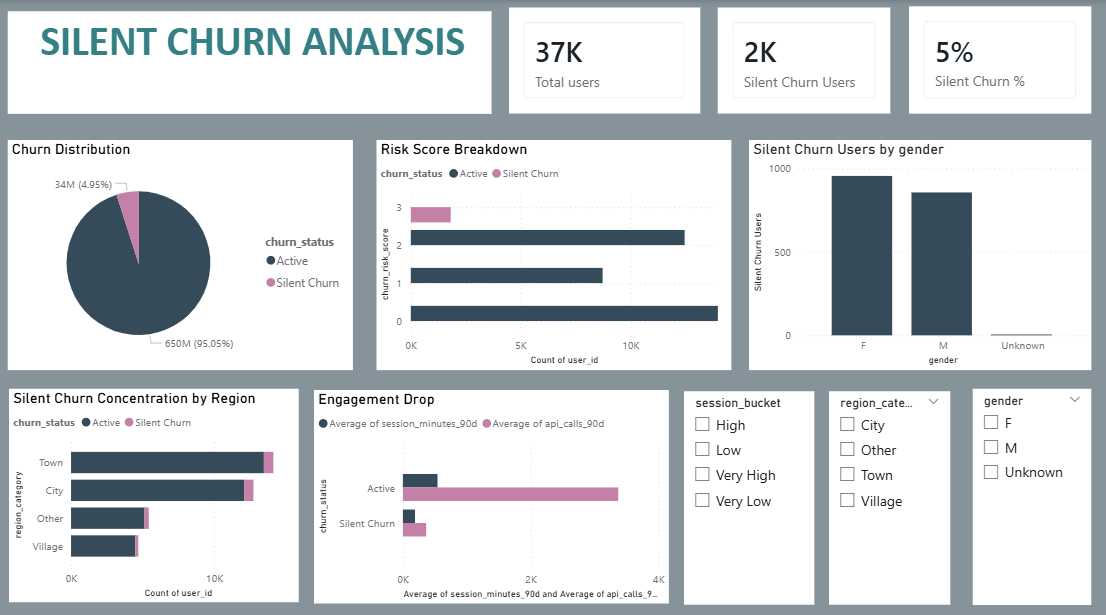

The dashboard page shown, as its layout file describes it:
{"tool":"powerbi","page":{"name":"Page 1","canvas":[1280,720],"ordinal":0},"visuals":[{"type":"textbox","box":[10,13.3,558.3,118.3],"z":0},{"type":"cardVisual","fields":{"Data":["silent_churn_dashboard.Silent Churn Users"]},"box":[829.6,8.7,199.1,122.6],"z":1000},{"type":"cardVisual","fields":{"Data":["silent_churn_dashboard.Silent Churn %"]},"box":[1050.3,7.2,210.6,124.1],"z":2000},{"type":"cardVisual","fields":{"Data":["silent_churn_dashboard.Total users"]},"box":[588.6,8.7,220.7,122.6],"z":3000},{"type":"pieChart","title":"Churn Distribution","fields":{"Category":["silent_churn_dashboard.churn_status"],"Y":["Sum(silent_churn_dashboard.user_id)"]},"box":[10.1,161.6,398.2,265.5],"z":4000},{"type":"clusteredBarChart","title":"Risk Score Breakdown","fields":{"Category":["silent_churn_dashboard.churn_risk_score"],"Series":["silent_churn_dashboard.churn_status"],"Y":["CountNonNull(silent_churn_dashboard.user_id)"]},"box":[435.7,161.6,409.7,265.5],"z":5000},{"type":"barChart","title":"Silent Churn Concentration by Region","fields":{"Category":["silent_churn_dashboard.region_category"],"Series":["silent_churn_dashboard.churn_status"],"Y":["CountNonNull(silent_churn_dashboard.user_id)"]},"box":[11.5,448.7,334.7,246.7],"z":6000},{"type":"clusteredBarChart","title":"Engagement Drop","fields":{"Category":["silent_churn_dashboard.churn_status"],"Y":["Avg(silent_churn_dashboard.session_minutes_90d)","Avg(silent_churn_dashboard.api_calls_90d)"]},"box":[363.6,450.1,409.7,246.7],"z":7000},{"type":"slicer","fields":{"Values":["silent_churn_dashboard.region_category"]},"box":[958,451.6,139.9,246.7],"z":8000},{"type":"slicer","fields":{"Values":["silent_churn_dashboard.gender"]},"box":[1123.9,448.7,137.1,249.6],"z":9000},{"type":"slicer","fields":{"Values":["silent_churn_dashboard.session_bucket"]},"box":[790.6,451.6,150,246.7],"z":10000},{"type":"columnChart","fields":{"Category":["silent_churn_dashboard.gender"],"Y":["silent_churn_dashboard.Silent Churn Users"]},"box":[865.7,161.6,395.3,265.5],"z":11000}]}

Visuals, with their boxes in screenshot pixels (x1, y1, x2, y2), scaled from the page's 1280x720 canvas onto the 1106x615 screenshot:
textbox: 9:11:491:112
cardVisual - silent_churn_dashboard.Silent Churn Users: 717:7:889:112
cardVisual - silent_churn_dashboard.Silent Churn %: 908:6:1089:112
cardVisual - silent_churn_dashboard.Total users: 509:7:699:112
"Churn Distribution" pieChart: 9:138:353:365
"Risk Score Breakdown" clusteredBarChart: 376:138:730:365
"Silent Churn Concentration by Region" barChart: 10:383:299:594
"Engagement Drop" clusteredBarChart: 314:384:668:595
slicer - silent_churn_dashboard.region_category: 828:386:949:596
slicer - silent_churn_dashboard.gender: 971:383:1090:596
slicer - silent_churn_dashboard.session_bucket: 683:386:813:596
columnChart - silent_churn_dashboard.gender x silent_churn_dashboard.Silent Churn Users: 748:138:1090:365
